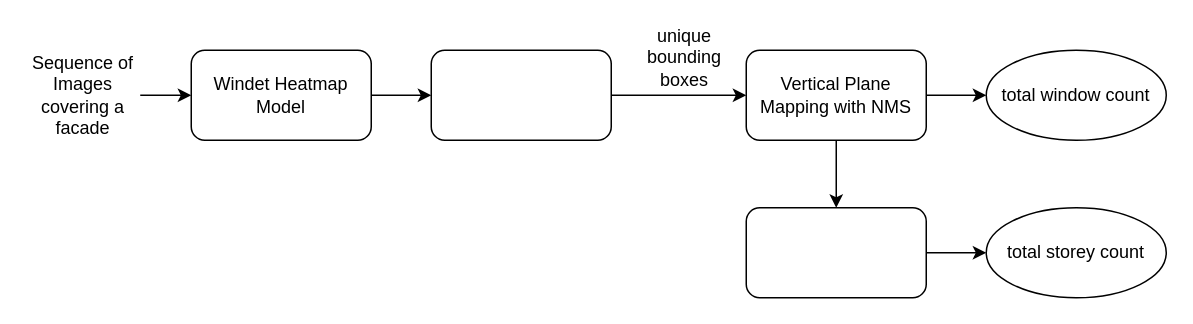
Some shapes in this 1193 by 324 pixel diagram are drawn without their labels. Here are the shapes that lost their labels. From the top down, the centre of each, then its label:
At [520,94]: "Post processing Module".
At [835,252]: "storey count estimation".
